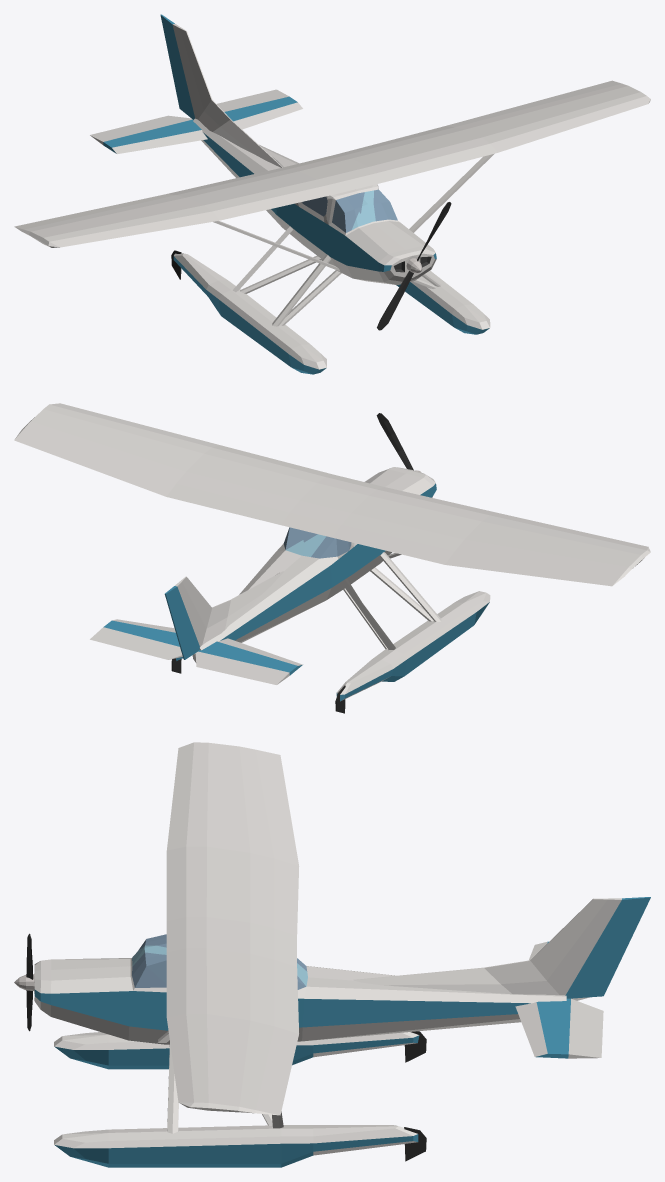
The model's file is Float Plane A.fbx.
The picture shows the model from 3 angles, top to bottom: view 1: azimuth 30°, elevation 25°; view 2: azimuth 150°, elevation 25°; view 3: azimuth 270°, elevation 25°; orthographic projection. The views are drawn at different scales.
Visible parts, largest first — view 1: Float Plane A; view 2: Float Plane A; view 3: Float Plane A.
Part boxes in pixels (bbox=[...]): Float Plane A: bbox=[14, 14, 650, 374]; Float Plane A: bbox=[14, 403, 650, 713]; Float Plane A: bbox=[14, 742, 650, 1167].
Size of the model in its own units: 1379 by 390 by 1022.
